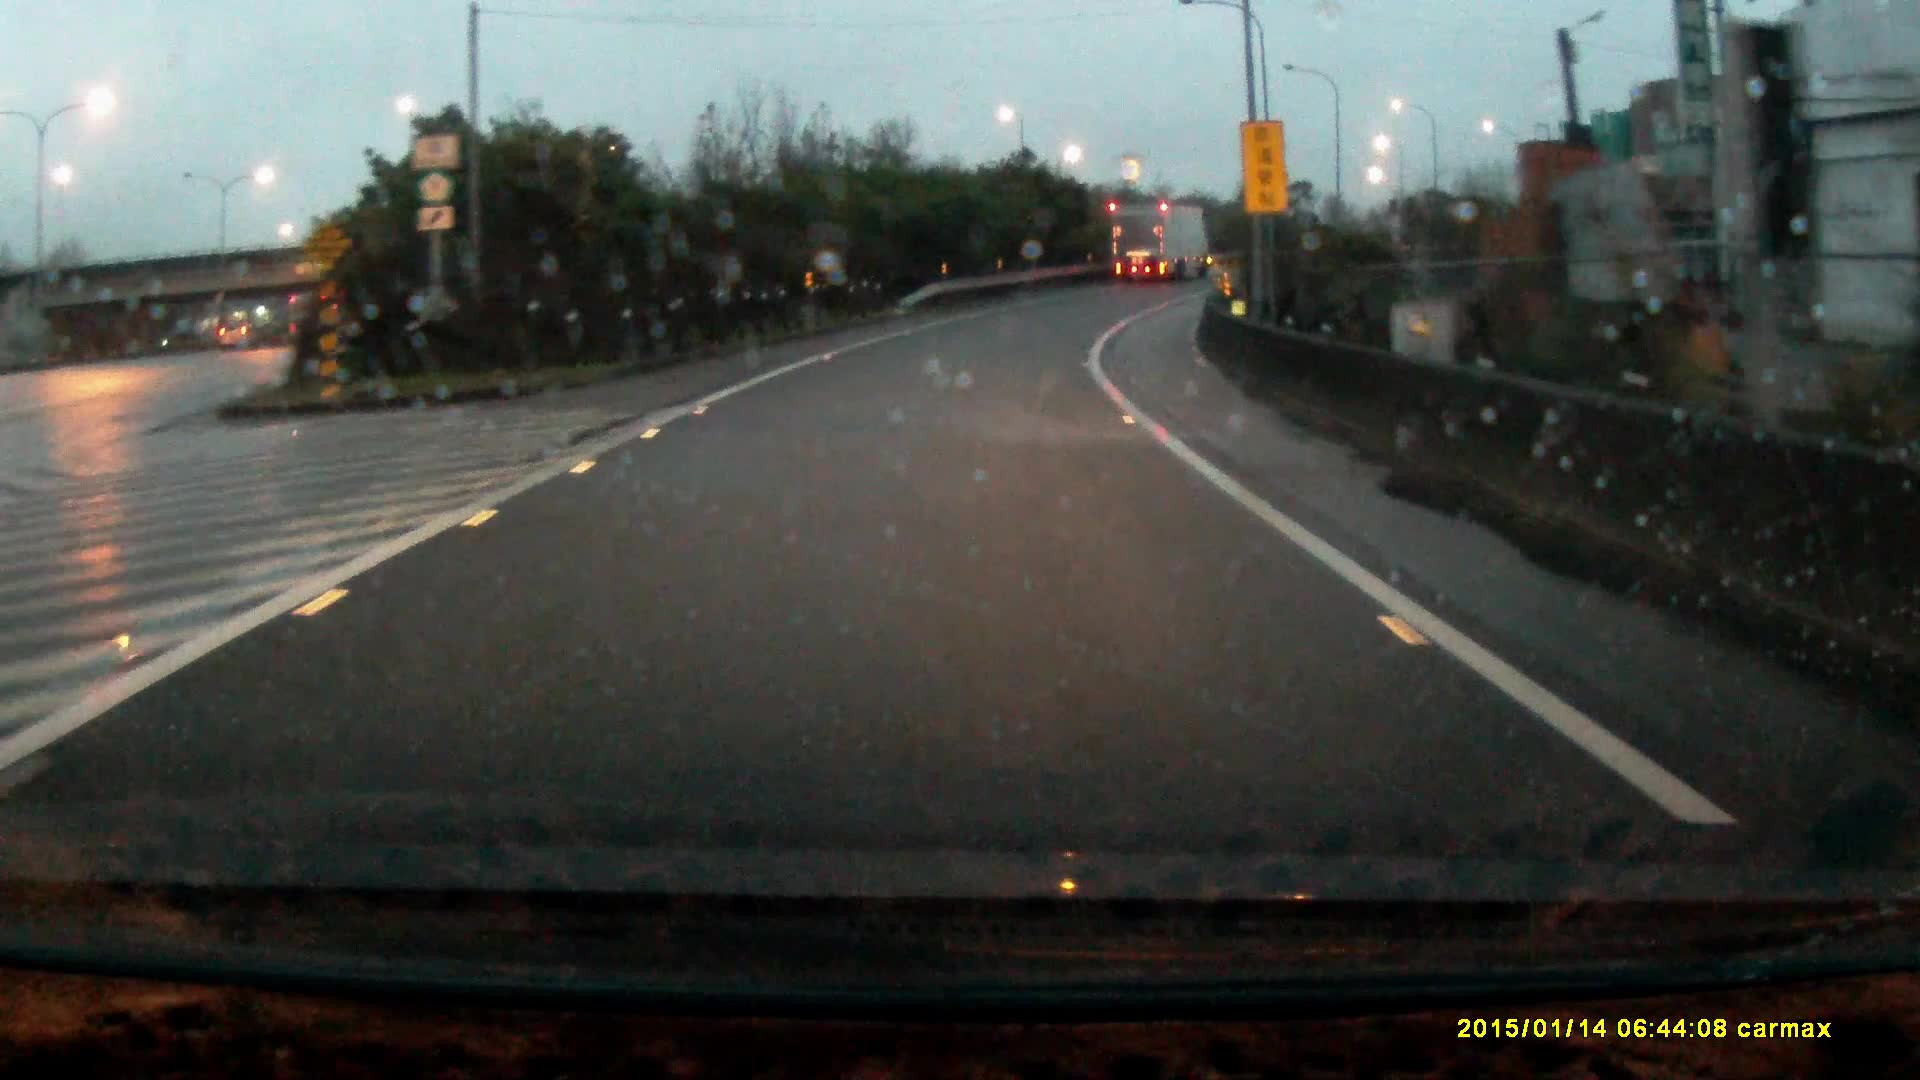vehicle: (1109, 203, 1209, 285), (220, 319, 258, 352)
